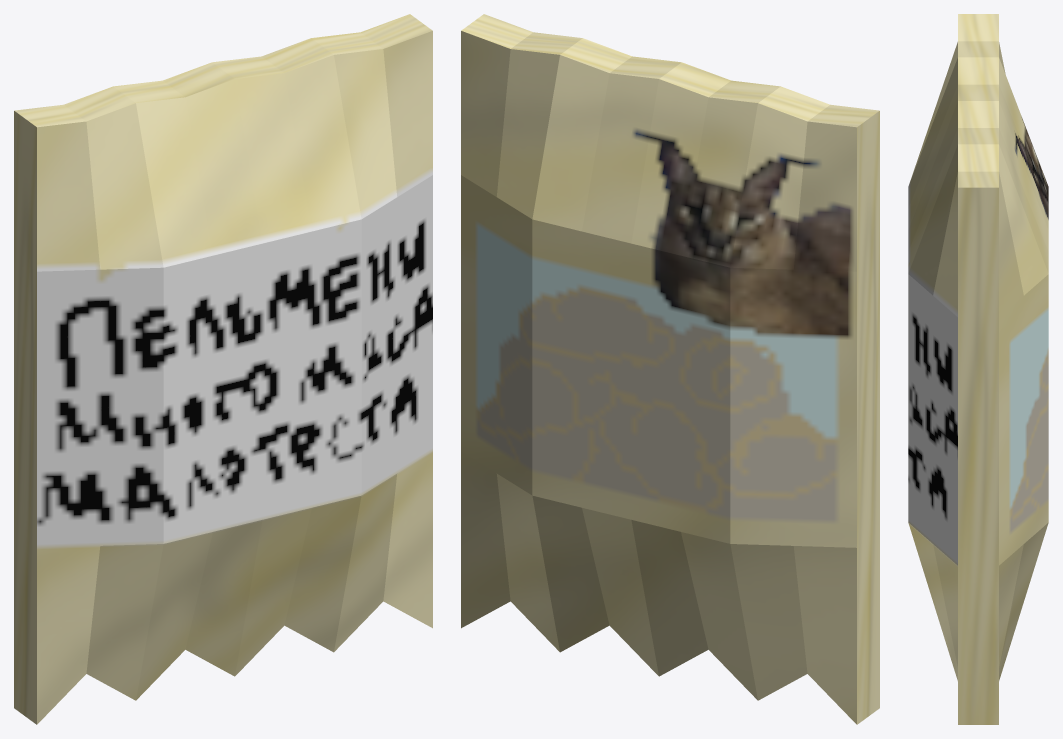
File: dumplins.glb
The picture shows the model from 3 angles, left to right: view 1: azimuth 30°, elevation 25°; view 2: azimuth 150°, elevation 25°; view 3: azimuth 270°, elevation 25°; orthographic projection. The views are drawn at different scales.
Parts seen in each view (by area): view 1: Cube; view 2: Cube; view 3: Cube.
Part boxes in pixels (x1=…): Cube: x1=14, y1=14, x2=432, y2=724; Cube: x1=461, y1=14, x2=879, y2=724; Cube: x1=908, y1=14, x2=1048, y2=724.
Size of the model in its own units: 0.3 by 0.4328 by 0.1026.
Materials: 1 (1 with a texture image).
